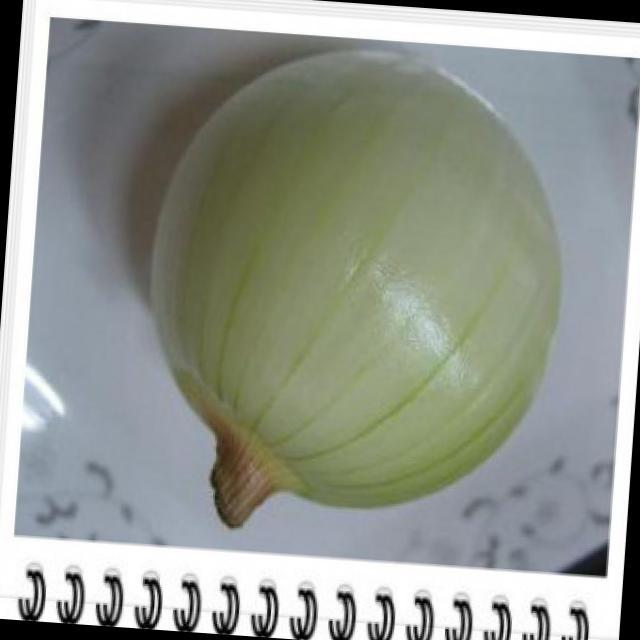Onion: (146, 47, 567, 519)
